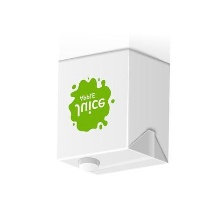carton: (45, 48, 179, 183)
